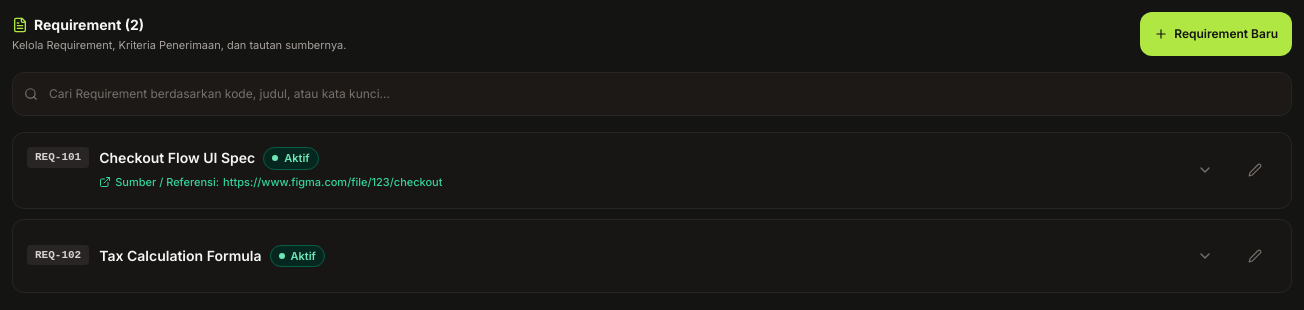
it: RequirementManager Organism › filters requirements using search query
Expected: the text "Checkout Flow UI Spec" is shown, [99,148,255,168]
Expected: the text "Tax Calculation Formula" is shown, [99,246,262,266]
Type "Tax" into the field with placeholder "Cari Requirement berdasarkan kode" at point(652, 94), box [12,72,1292,116]
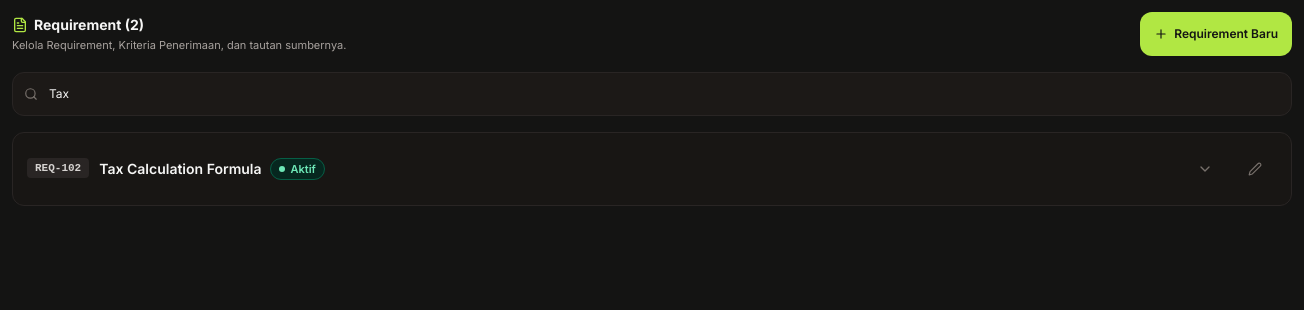
Expected: the text "Tax Calculation Formula" is shown, [99,159,262,179]
Now the text "Checkout Flow UI Spec" is gone
